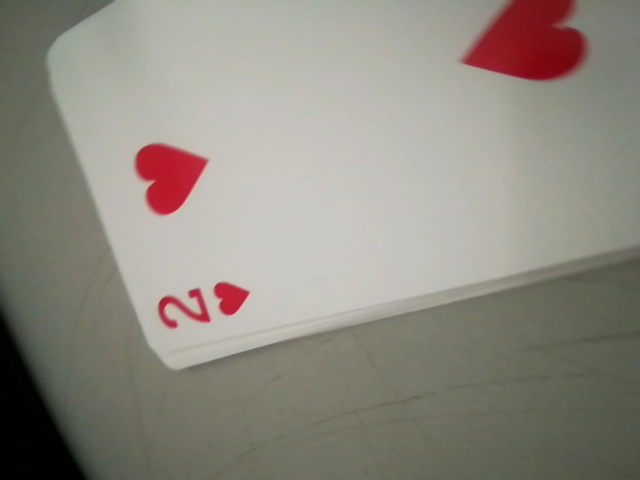hx 2: (155, 267, 261, 343)
